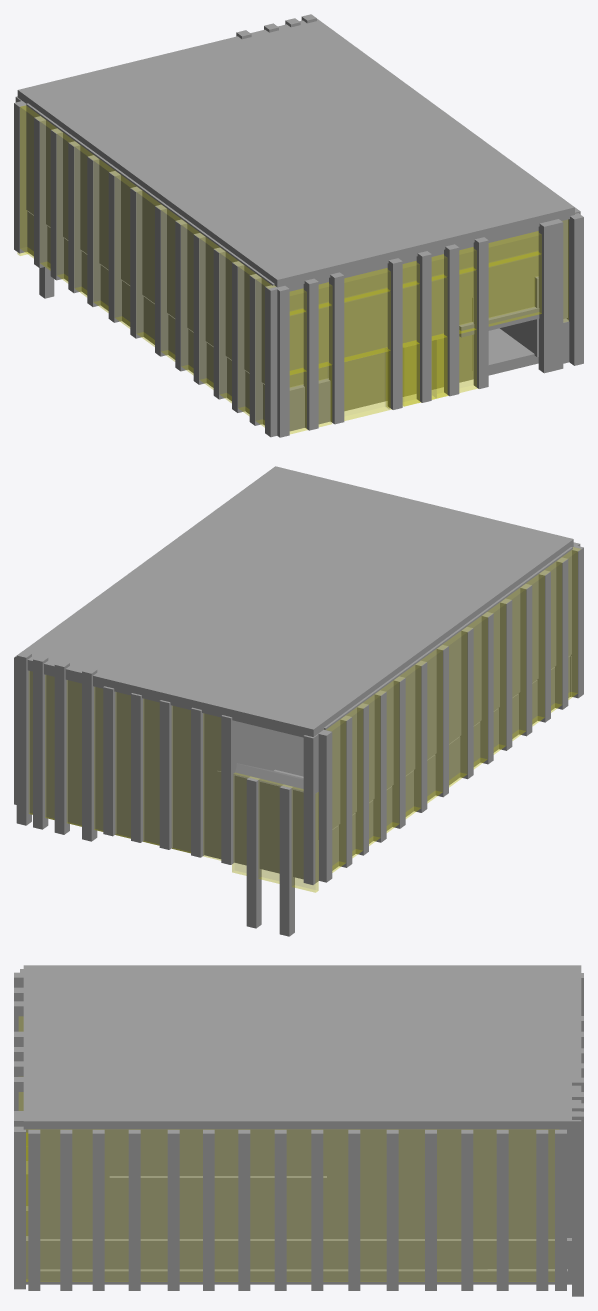
The model's file is Building2.5.fbx.
The picture shows the model from 3 angles, top to bottom: view 1: azimuth 30°, elevation 25°; view 2: azimuth 150°, elevation 25°; view 3: azimuth 270°, elevation 25°; orthographic projection. The views are drawn at different scales.
Visible parts, largest first — view 1: pCube574; view 2: pCube574; view 3: pCube574.
Boxes of the visible parts, left/top/right/bottom form: pCube574: left=14, top=14, right=583, bottom=437; pCube574: left=14, top=466, right=583, bottom=936; pCube574: left=14, top=965, right=583, bottom=1296.
Bounding box in the file's own units: 32.61 × 21.26 × 47.75.
